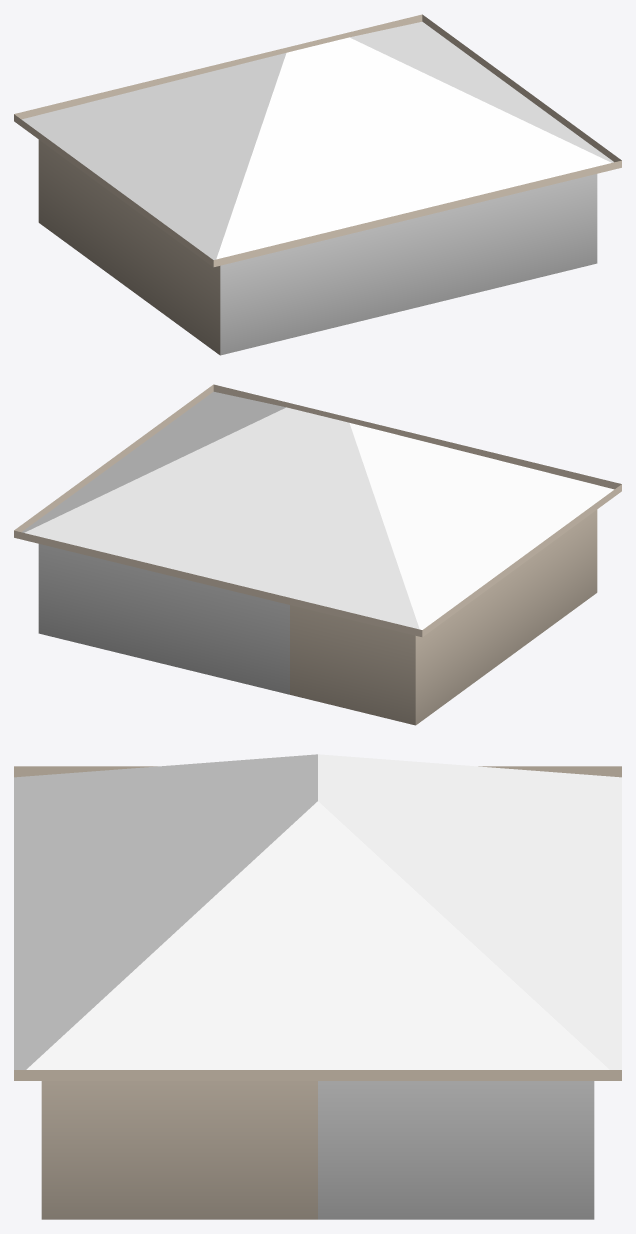
Rendered from HouseB_Peach.fbx.
3 renders of one model, top to bottom at view 1: azimuth 30°, elevation 25°; view 2: azimuth 150°, elevation 25°; view 3: azimuth 270°, elevation 25°, orthographic. The views are drawn at different scales.
Visible parts, largest first — view 1: HouseB_Peach; view 2: HouseB_Peach; view 3: HouseB_Peach.
Part boxes in pixels (x1=…): HouseB_Peach: x1=14, y1=14, x2=621, y2=355; HouseB_Peach: x1=14, y1=384, x2=621, y2=725; HouseB_Peach: x1=14, y1=754, x2=621, y2=1219.
Size of the model in its own units: 13 by 6.03 by 11.
